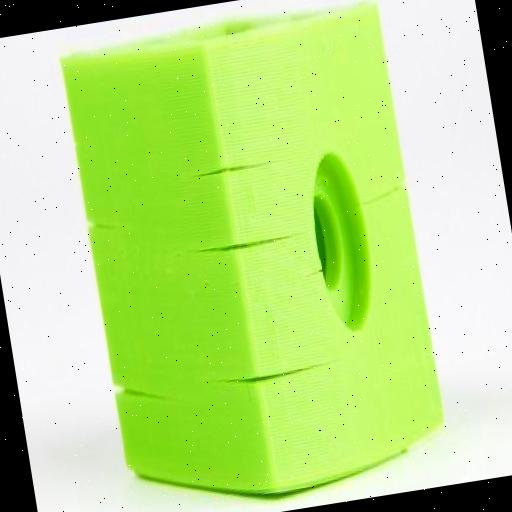cracks: (210, 350, 332, 390), (182, 222, 294, 263), (112, 364, 180, 415), (188, 150, 275, 189), (87, 208, 120, 242)
